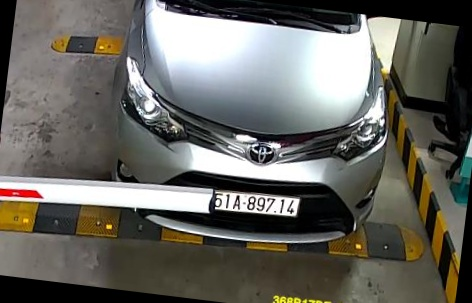plate: (207, 184, 301, 227)
